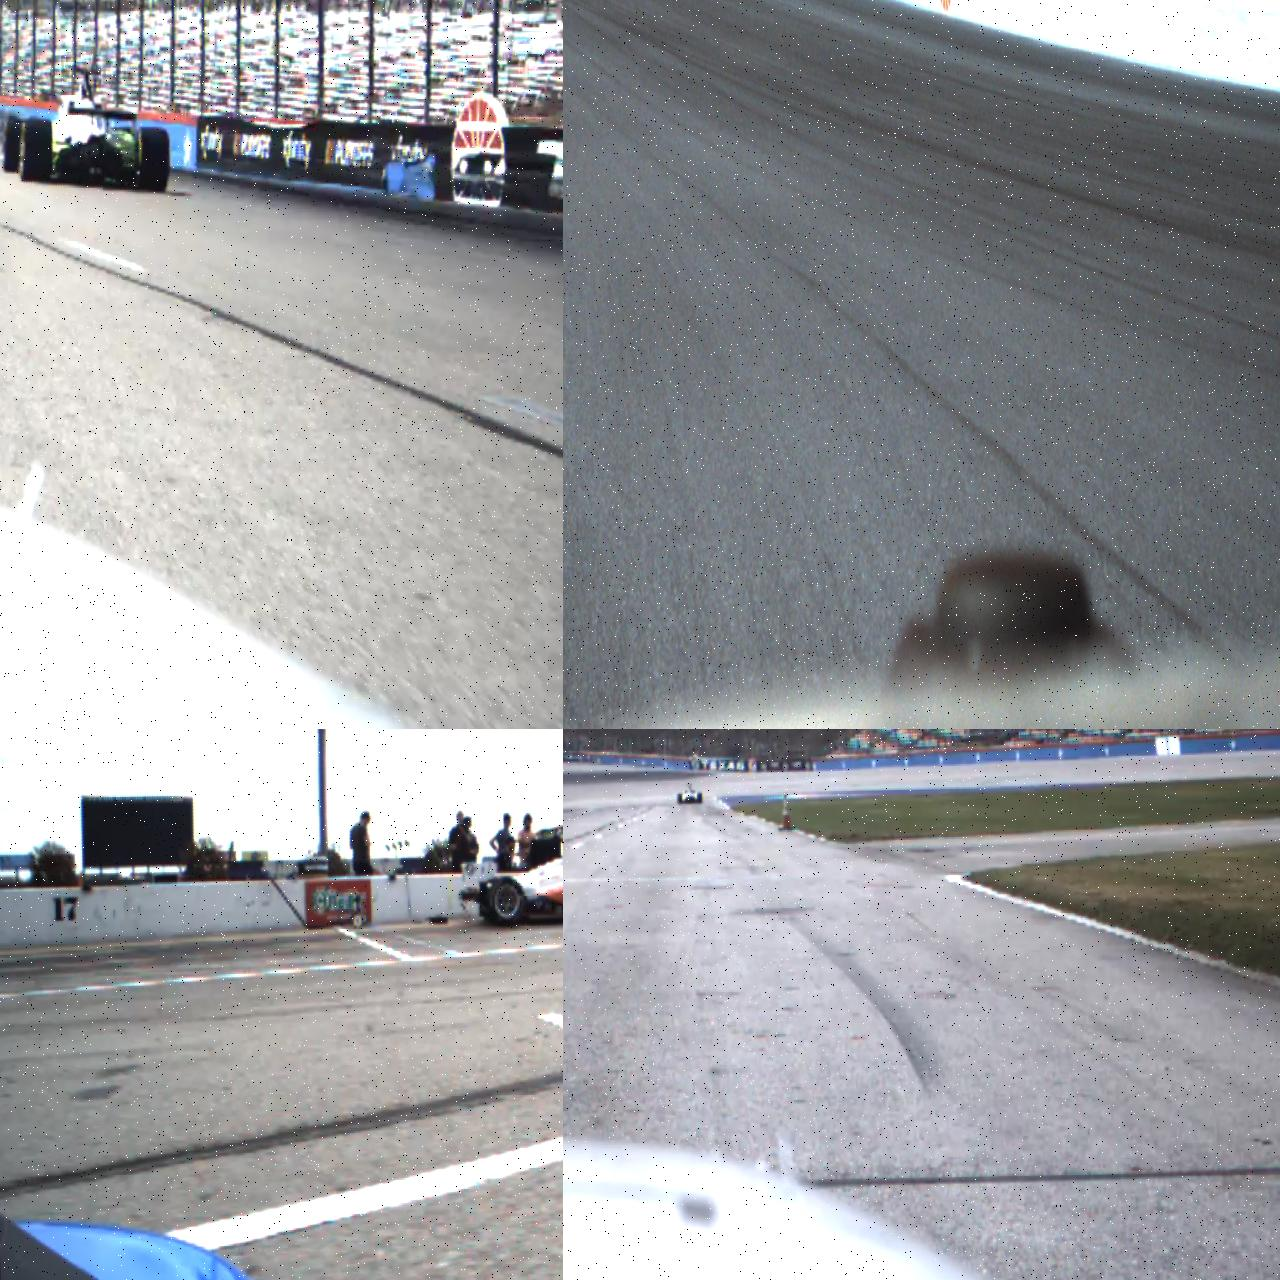AV: (0, 64, 172, 196), (463, 831, 563, 930), (678, 783, 703, 804)
Wheel: (21, 120, 54, 184), (486, 876, 526, 928), (139, 128, 171, 192), (2, 115, 23, 172), (678, 794, 682, 804), (699, 792, 702, 803)
